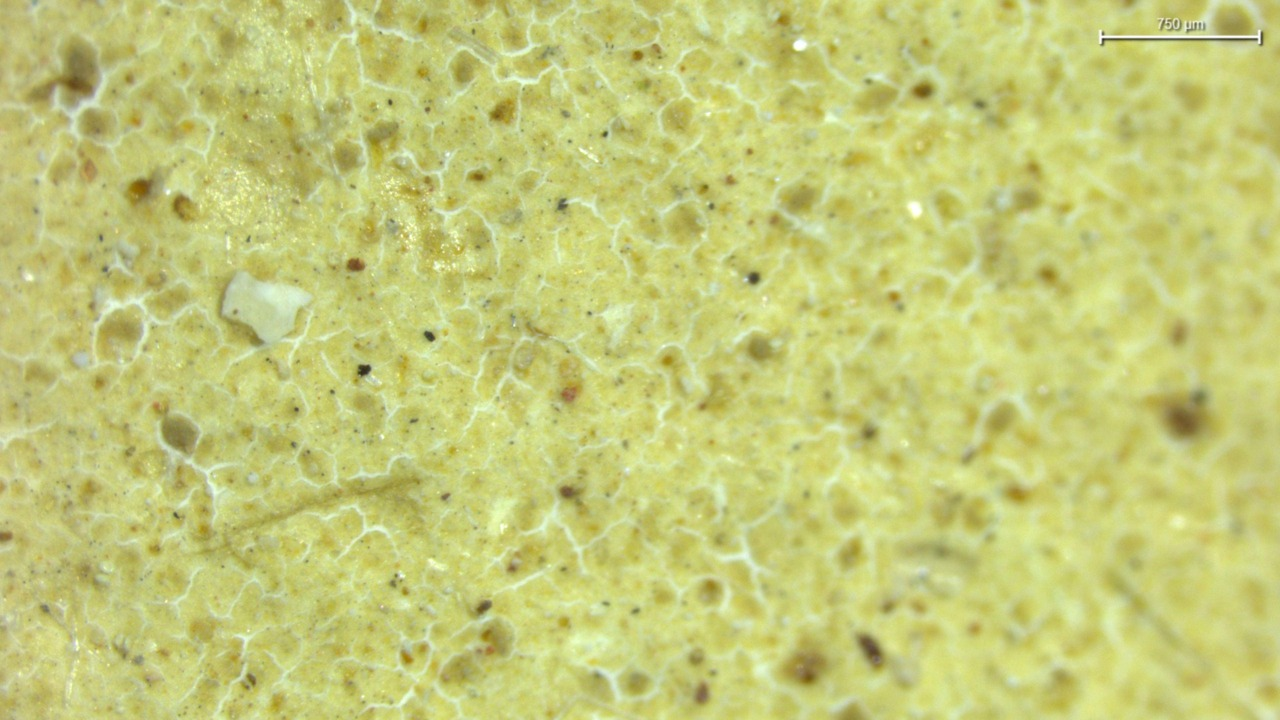microplastic_fragment: (221, 271, 312, 344)
